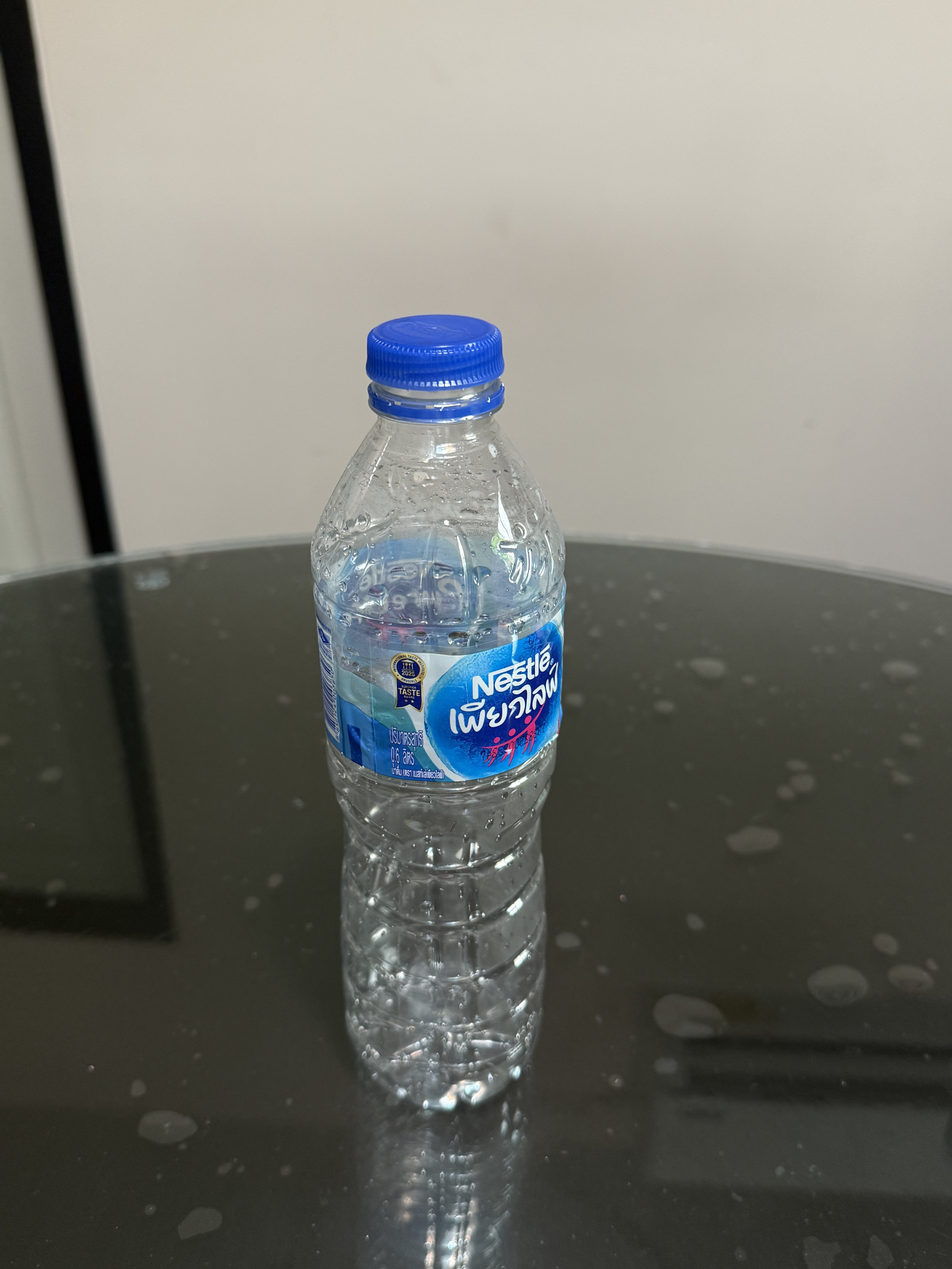half_cap: (359, 308, 509, 422)
